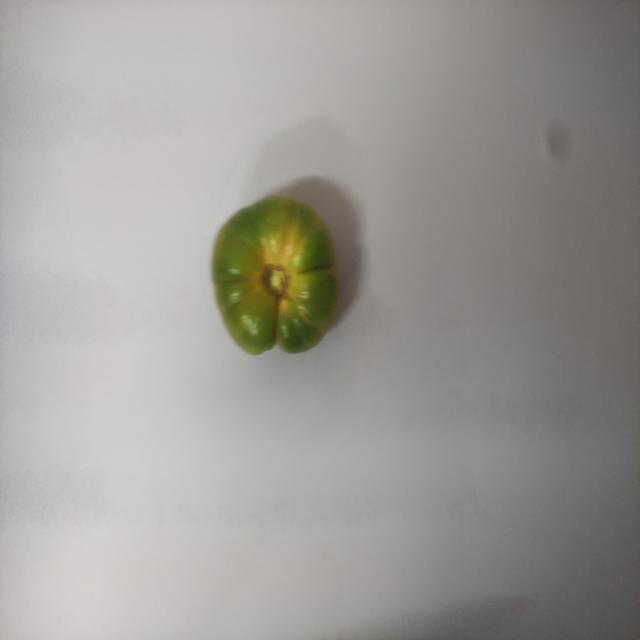yesil: (205, 194, 346, 365)
